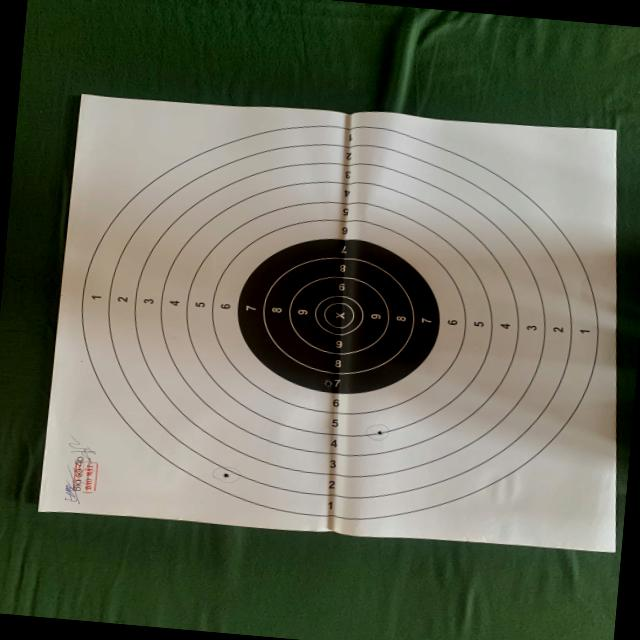bullet: (376, 429, 383, 435), (223, 472, 228, 477), (325, 381, 331, 385)
target: (39, 95, 616, 551)
